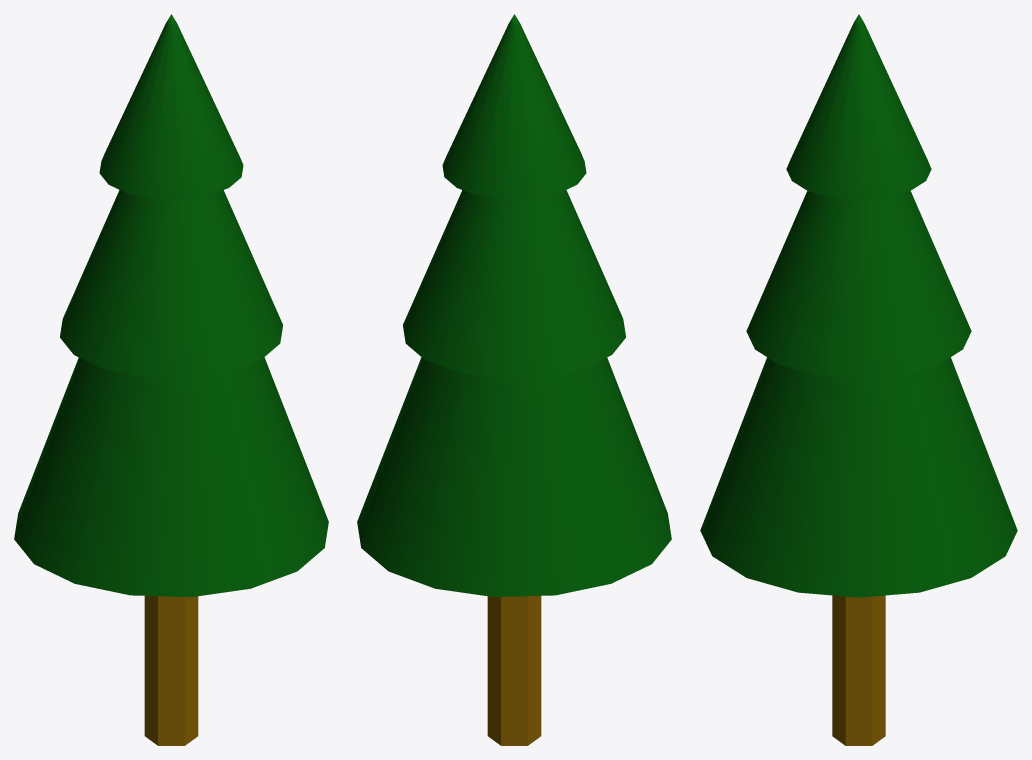
Rendered from tree.fbx.
The picture shows the model from 3 angles, left to right: view 1: azimuth 30°, elevation 25°; view 2: azimuth 150°, elevation 25°; view 3: azimuth 270°, elevation 25°; orthographic projection.
Parts seen in each view (by area): view 1: tree; view 2: tree; view 3: tree.
Boxes of the visible parts, x1,y1,x2,y2 form: tree: [14, 14, 328, 745]; tree: [357, 14, 671, 745]; tree: [700, 14, 1017, 745].
Bounding box in the file's own units: 241 × 606 × 241.
